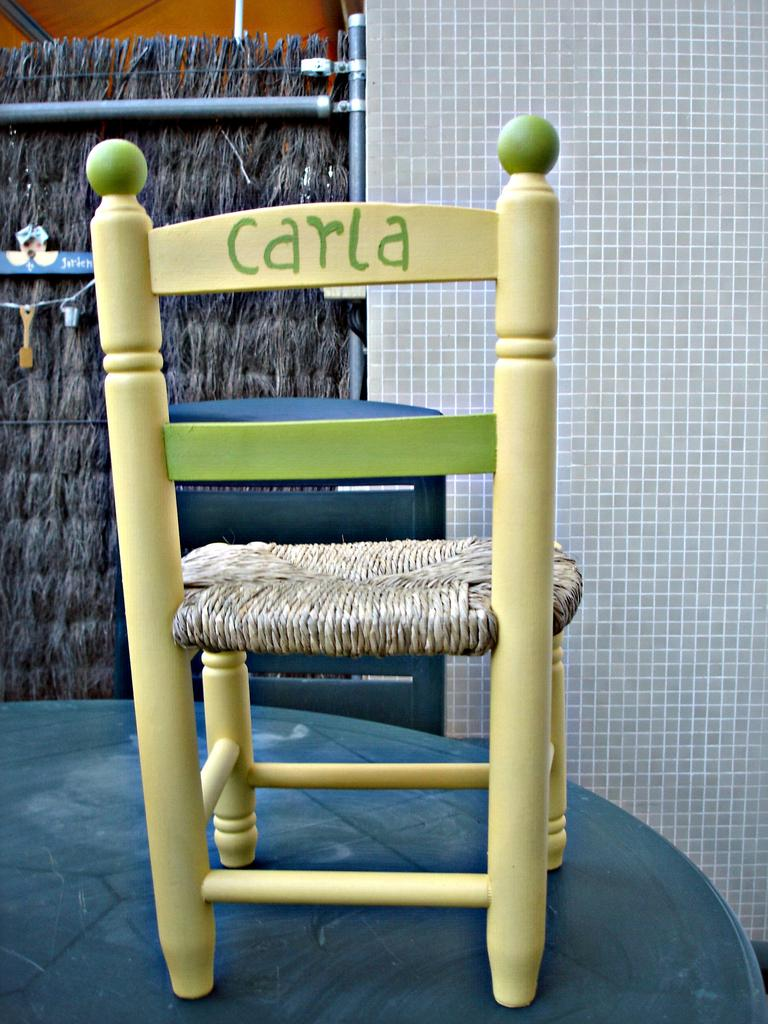Chair: (72, 148, 616, 1014)
